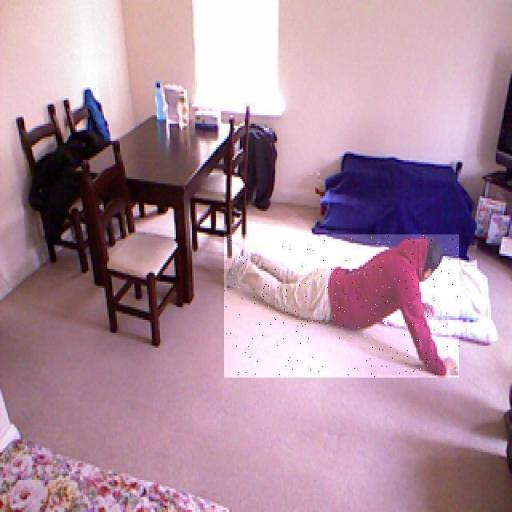Fall: (224, 235, 459, 378)
